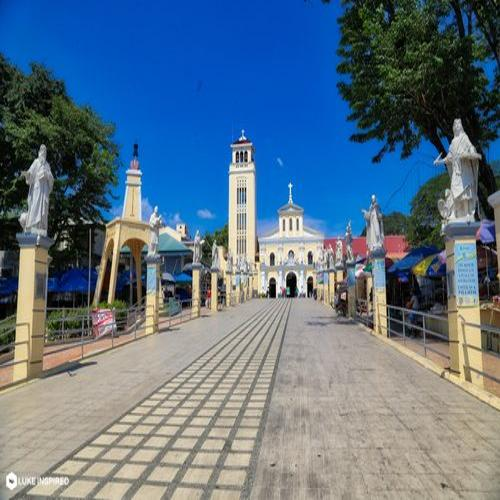Manaoag Church: (221, 126, 325, 304)
